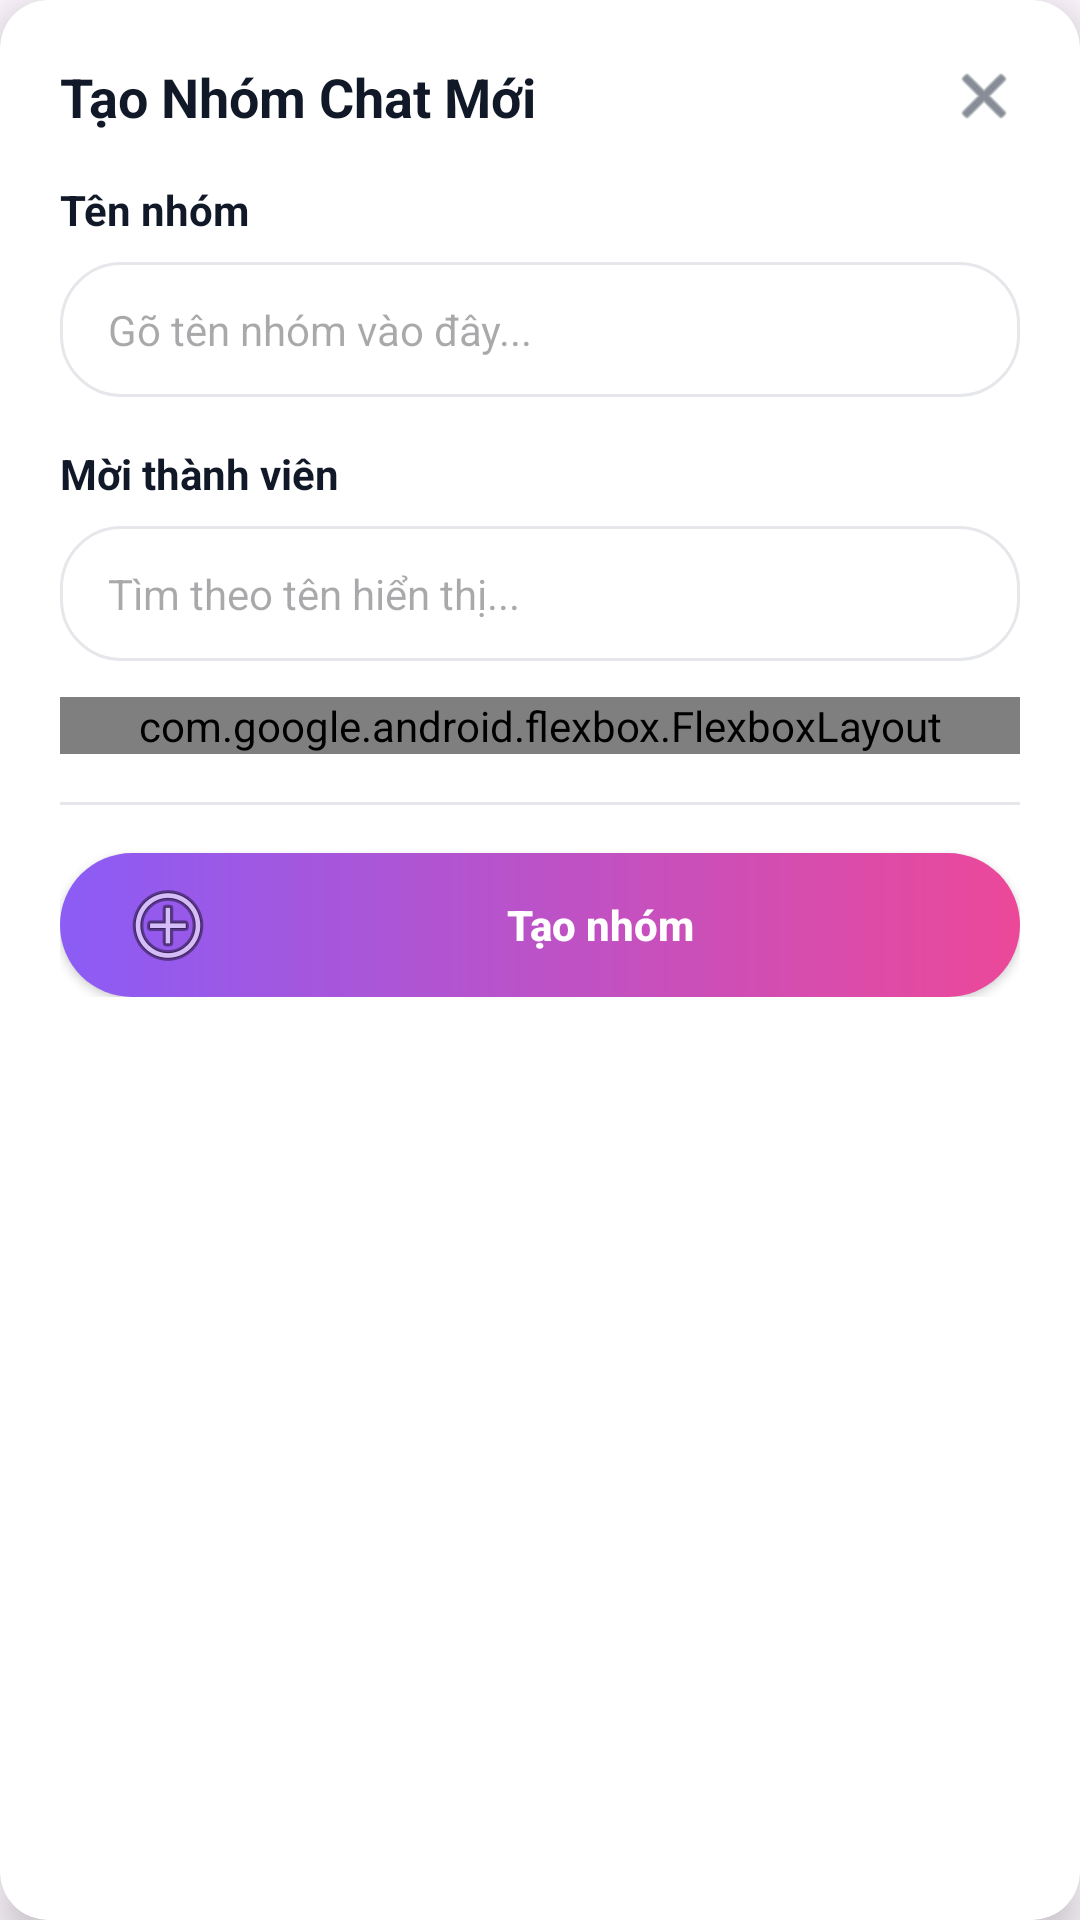

Where icons sit on this 1080*1920 app screen, as (x1, y1, x2, y2):
Close: (962, 74, 1006, 119)
